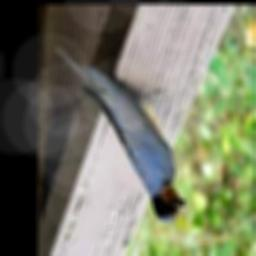Swallow: (55, 45, 185, 224)
